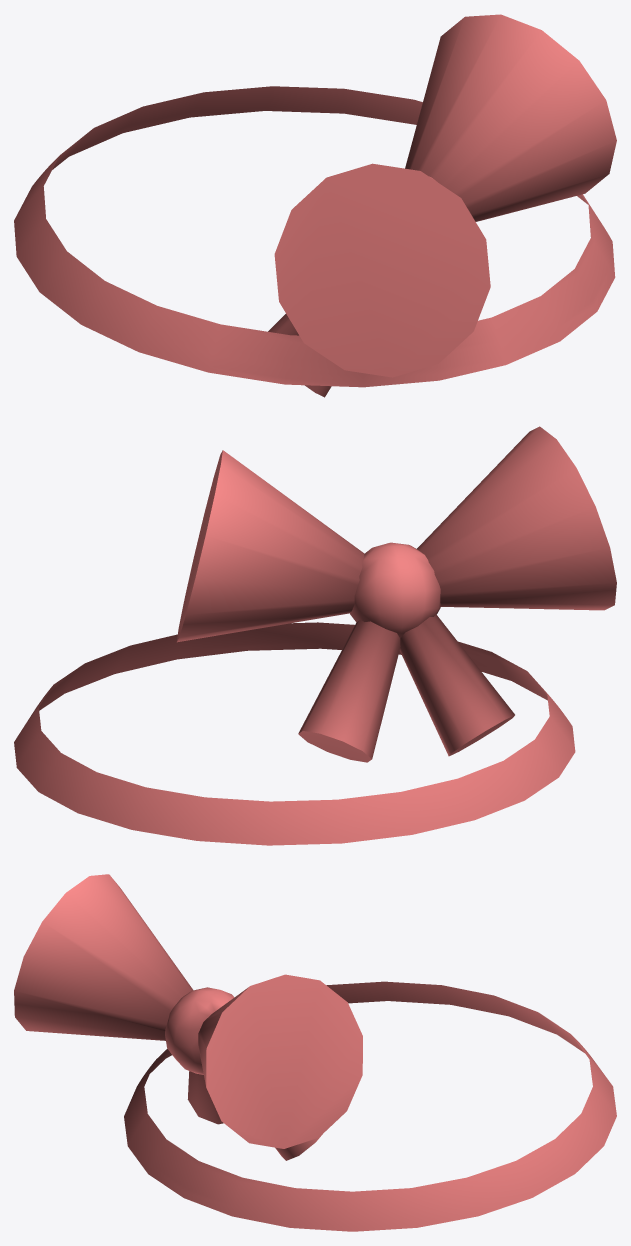
The model's file is schoolgirl_head.fbx.
3 views of the same model, one above another, from view 1: azimuth 30°, elevation 25°; view 2: azimuth 150°, elevation 25°; view 3: azimuth 270°, elevation 25° (orthographic). The views are drawn at different scales.
Parts seen in each view (by area): view 1: schoolgirl_head; view 2: schoolgirl_head; view 3: schoolgirl_head.
Boxes of the visible parts, bbox=[...] form: schoolgirl_head: bbox=[14, 14, 616, 397]; schoolgirl_head: bbox=[14, 426, 616, 845]; schoolgirl_head: bbox=[14, 874, 616, 1231].
Size of the model in its own units: 1.04 by 0.5517 by 1.27.
